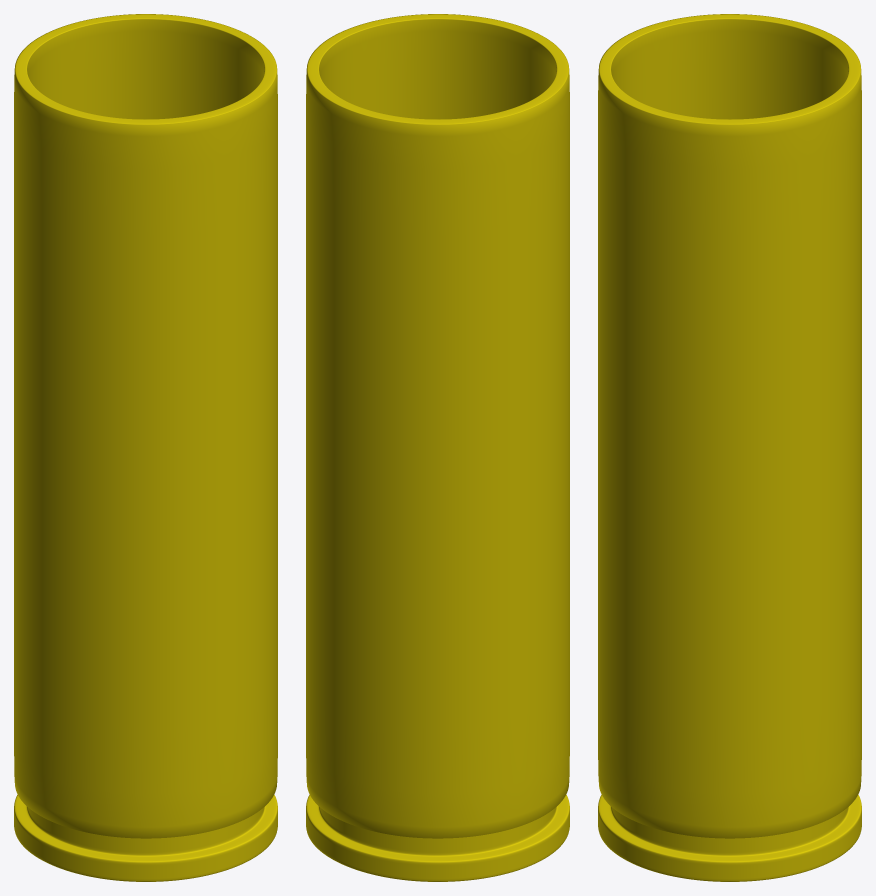
The model's file is Shell.fbx.
3 renders of one model, left to right at view 1: azimuth 30°, elevation 25°; view 2: azimuth 150°, elevation 25°; view 3: azimuth 270°, elevation 25°, orthographic.
Parts seen in each view (by area): view 1: Cylinder.001; view 2: Cylinder.001; view 3: Cylinder.001.
Boxes of the visible parts, x1,y1,x2,y2 form: Cylinder.001: (14, 14, 277, 881); Cylinder.001: (306, 14, 569, 881); Cylinder.001: (598, 14, 861, 881).
Bounding box in the file's own units: 193 × 613 × 193.
